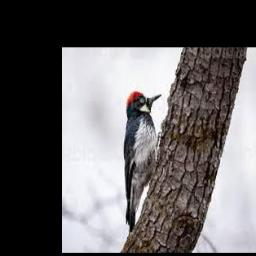Woodpecker: (124, 91, 162, 234)
